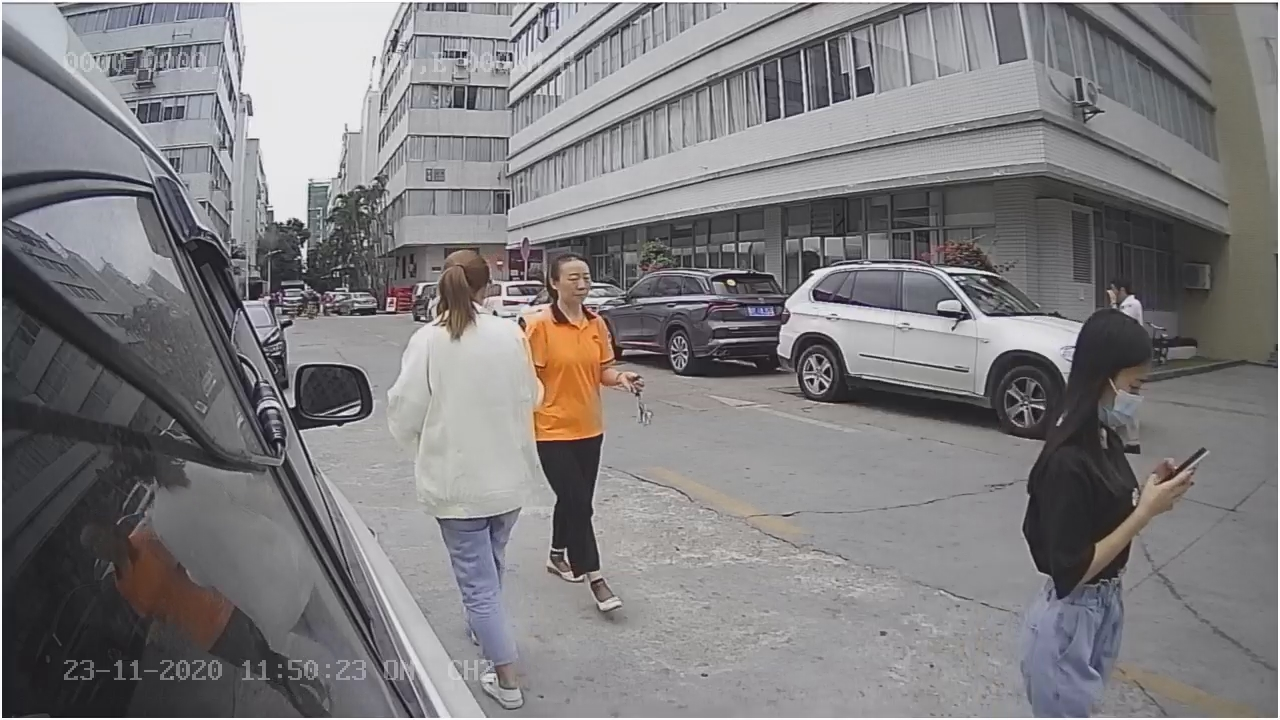person: (383, 230, 542, 486)
